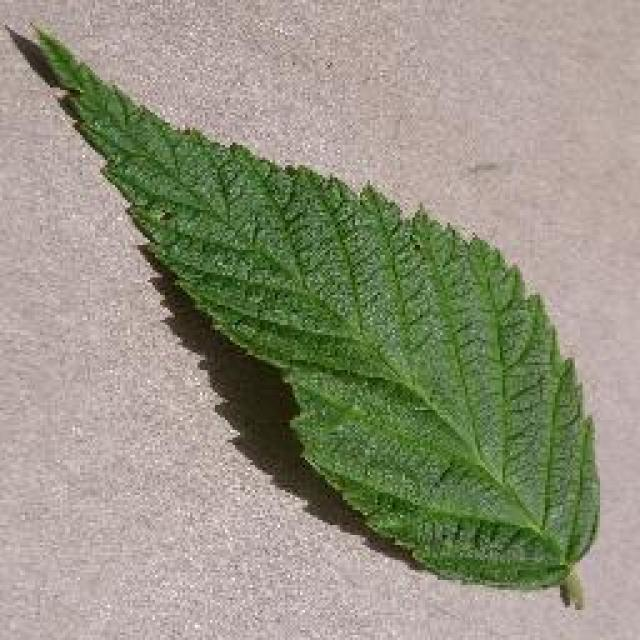Ras_healthy: (138, 112, 582, 537)
